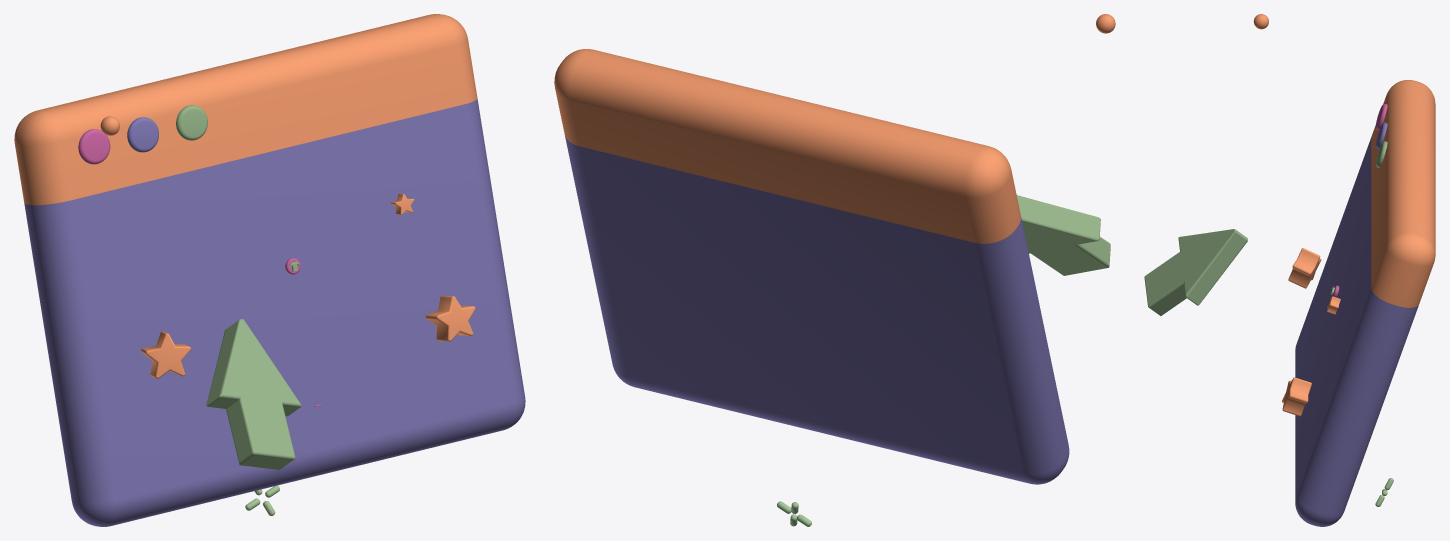
File: e-commerce-rating-3d-animated-icon-64211768806.glb
3 views of the same model, side by side, from view 1: azimuth 30°, elevation 25°; view 2: azimuth 150°, elevation 25°; view 3: azimuth 270°, elevation 25° (orthographic). The views are drawn at different scales.
Parts seen in each view (by area): view 1: Cube.003, Cube.002, Cube.020, Cylinder, Curve.005, Curve.002; view 2: Cube.003, Cube.002, Cube.020; view 3: Cube.003, Cube.002, Cube.020, Curve.002, Curve.005, Cylinder.
Boxes of the visible parts, x1=… form: Cube.003: x1=24, y1=99, x2=525, y2=526; Cube.002: x1=14, y1=14, x2=477, y2=205; Cube.020: x1=206, y1=319, x2=301, y2=469; Cylinder: x1=78, y1=105, x2=207, y2=164; Curve.005: x1=425, y1=295, x2=475, y2=341; Curve.002: x1=141, y1=331, x2=190, y2=378; Cube.003: x1=565, y1=136, x2=1069, y2=484; Cube.002: x1=554, y1=49, x2=1020, y2=243; Cube.020: x1=1016, y1=195, x2=1110, y2=275; Cube.003: x1=1295, y1=137, x2=1418, y2=526; Cube.002: x1=1371, y1=80, x2=1435, y2=307; Cube.020: x1=1144, y1=229, x2=1247, y2=315; Curve.002: x1=1288, y1=248, x2=1321, y2=288; Curve.005: x1=1282, y1=377, x2=1311, y2=416; Cylinder: x1=1375, y1=104, x2=1387, y2=167.
Size of what is drawn, in the model's own units: 1.67 by 1.79 by 1.17.
